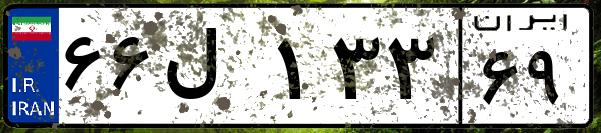1: (270, 28, 330, 110)
3: (385, 28, 445, 110), (330, 28, 385, 110)
6: (57, 26, 110, 100), (475, 38, 525, 113), (110, 28, 158, 98)
9: (525, 38, 570, 115)
ل: (158, 20, 270, 120)
